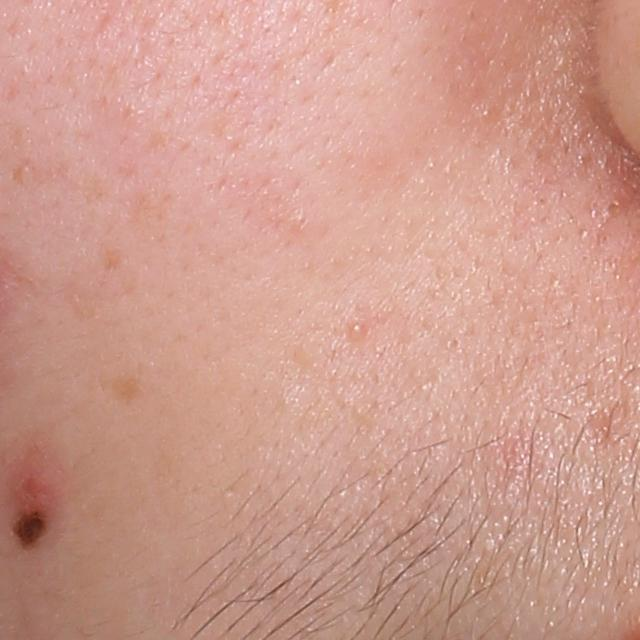comedo: (446, 334, 463, 349), (350, 324, 366, 339)
nevus: (16, 515, 45, 551)
